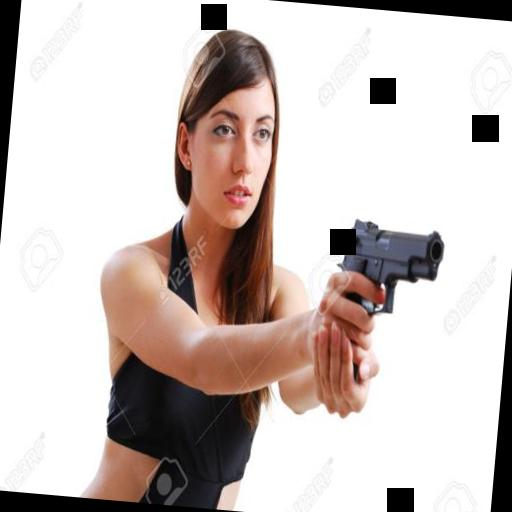Handgun: (326, 215, 446, 388)
